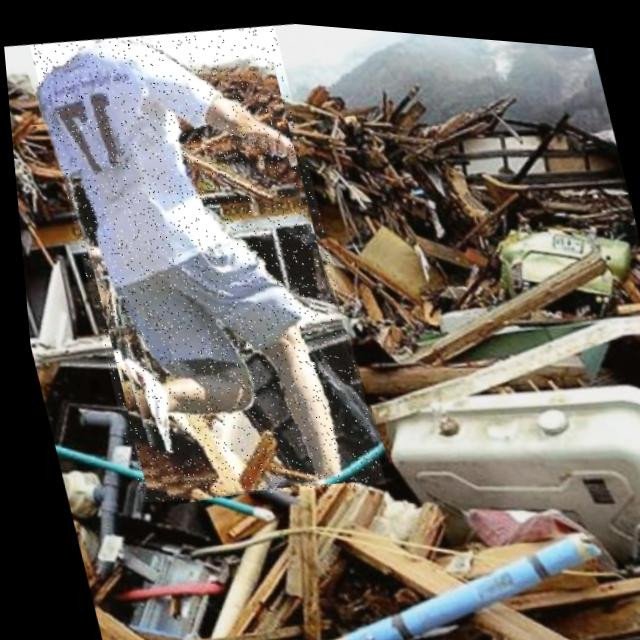Person in Rubble: (26, 5, 381, 517)
